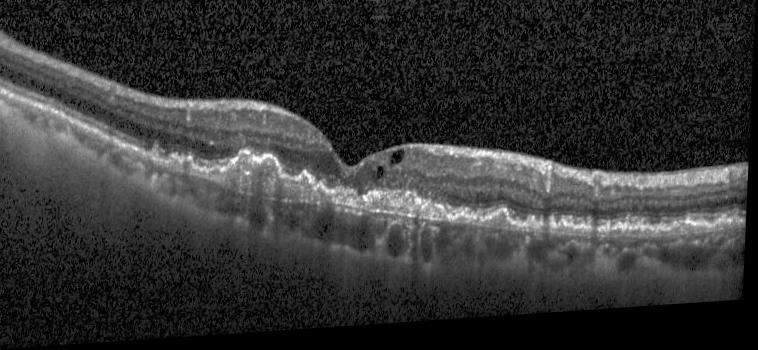intraretinal_cyst: (393, 155, 406, 170), (379, 171, 385, 184)
retinal_drusen: (212, 155, 332, 209), (366, 198, 450, 227), (474, 217, 521, 237), (664, 231, 712, 245), (333, 192, 360, 212), (560, 229, 587, 242), (718, 228, 742, 241), (173, 159, 194, 171), (525, 223, 542, 237), (602, 229, 614, 243), (549, 228, 559, 239), (458, 221, 471, 229), (614, 236, 625, 244), (632, 238, 644, 244), (646, 238, 654, 244)
